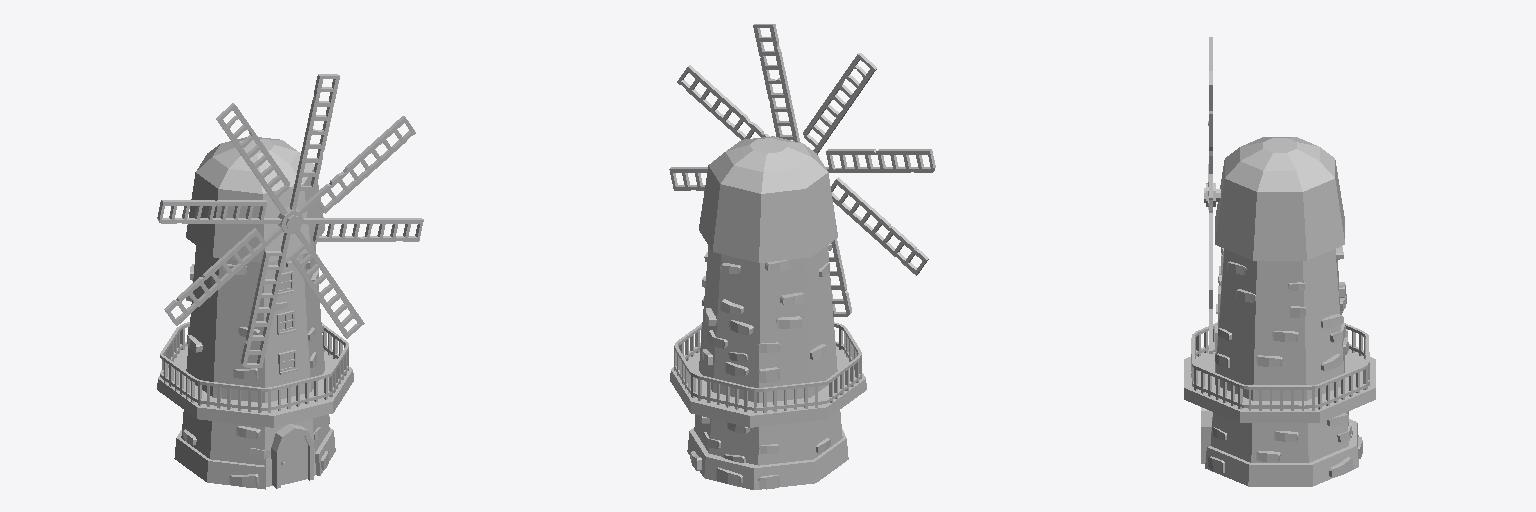
File: TowerWindmill.obj
3 renders of one model, left to right at view 1: azimuth 30°, elevation 25°; view 2: azimuth 150°, elevation 25°; view 3: azimuth 270°, elevation 25°, orthographic.
Visible parts, largest first — view 1: TowerWindmill, TowerWindmill_Blades; view 2: TowerWindmill, TowerWindmill_Blades; view 3: TowerWindmill, TowerWindmill_Blades.
Boxes of the visible parts, x1=… form: TowerWindmill: x1=157, y1=137, x2=353, y2=489; TowerWindmill_Blades: x1=157, y1=74, x2=423, y2=367; TowerWindmill: x1=670, y1=136, x2=866, y2=489; TowerWindmill_Blades: x1=669, y1=24, x2=935, y2=316; TowerWindmill: x1=1184, y1=137, x2=1375, y2=486; TowerWindmill_Blades: x1=1208, y1=37, x2=1212, y2=353.
Bounding box in the file's own units: 7.92 × 11.41 × 4.99.